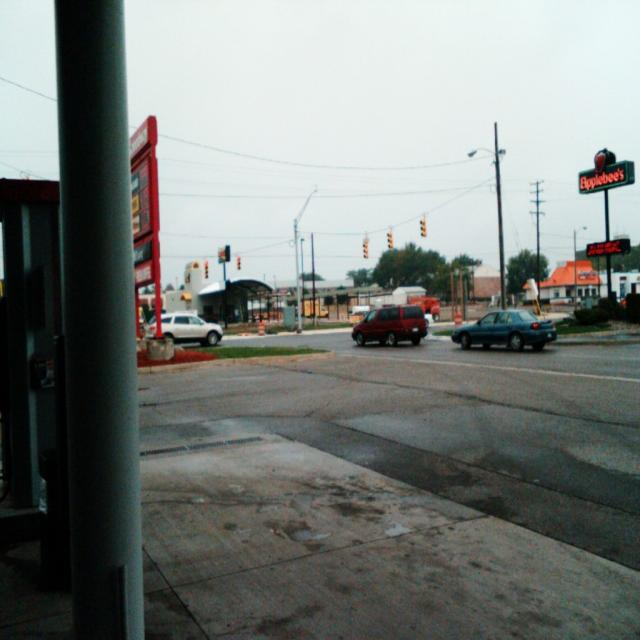car: (449, 299, 563, 353), (356, 305, 427, 341)
